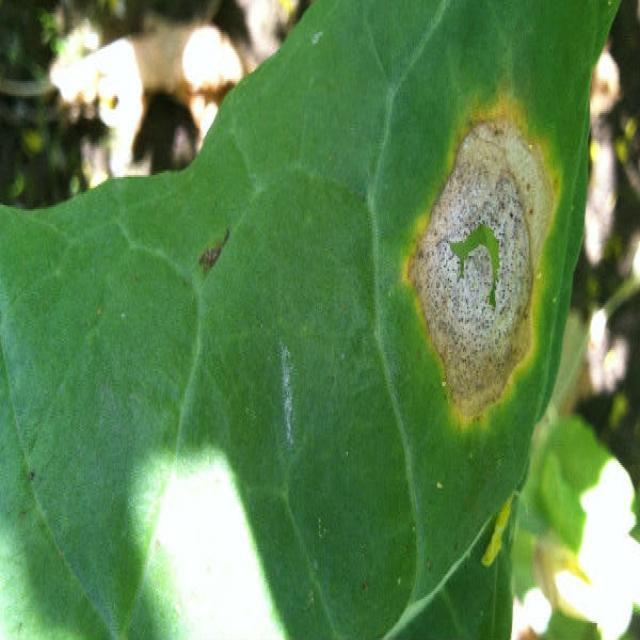Baby: (329, 62, 563, 446)
